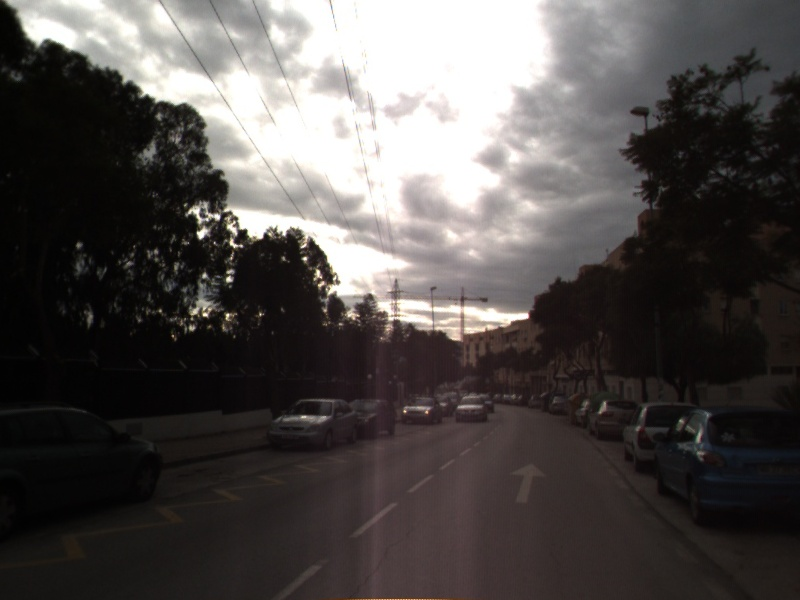STRAIGHT: (508, 460, 549, 505)
